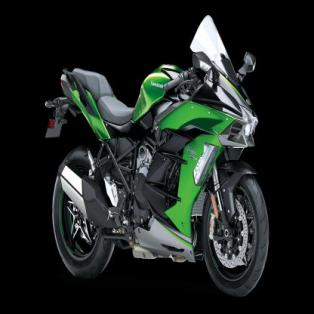Motocicleta: (41, 11, 273, 300)
